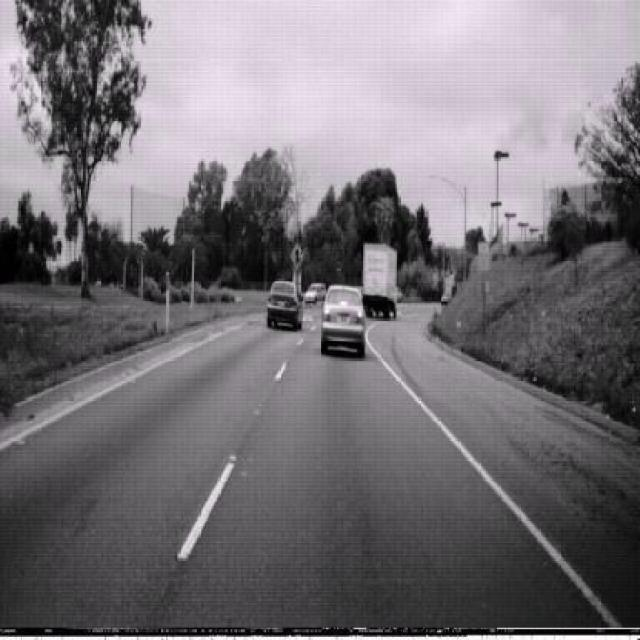merge: (289, 240, 305, 271)
